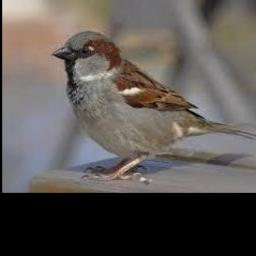Sparrow: (50, 30, 256, 180)
